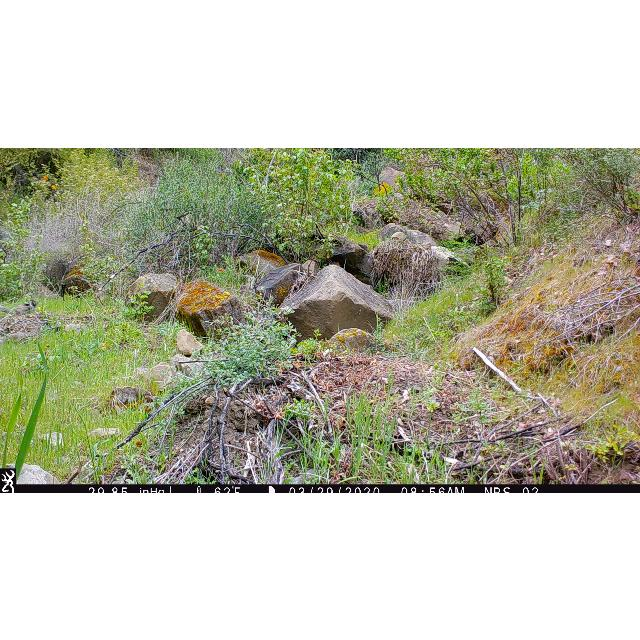animals: (1, 299, 40, 315)
